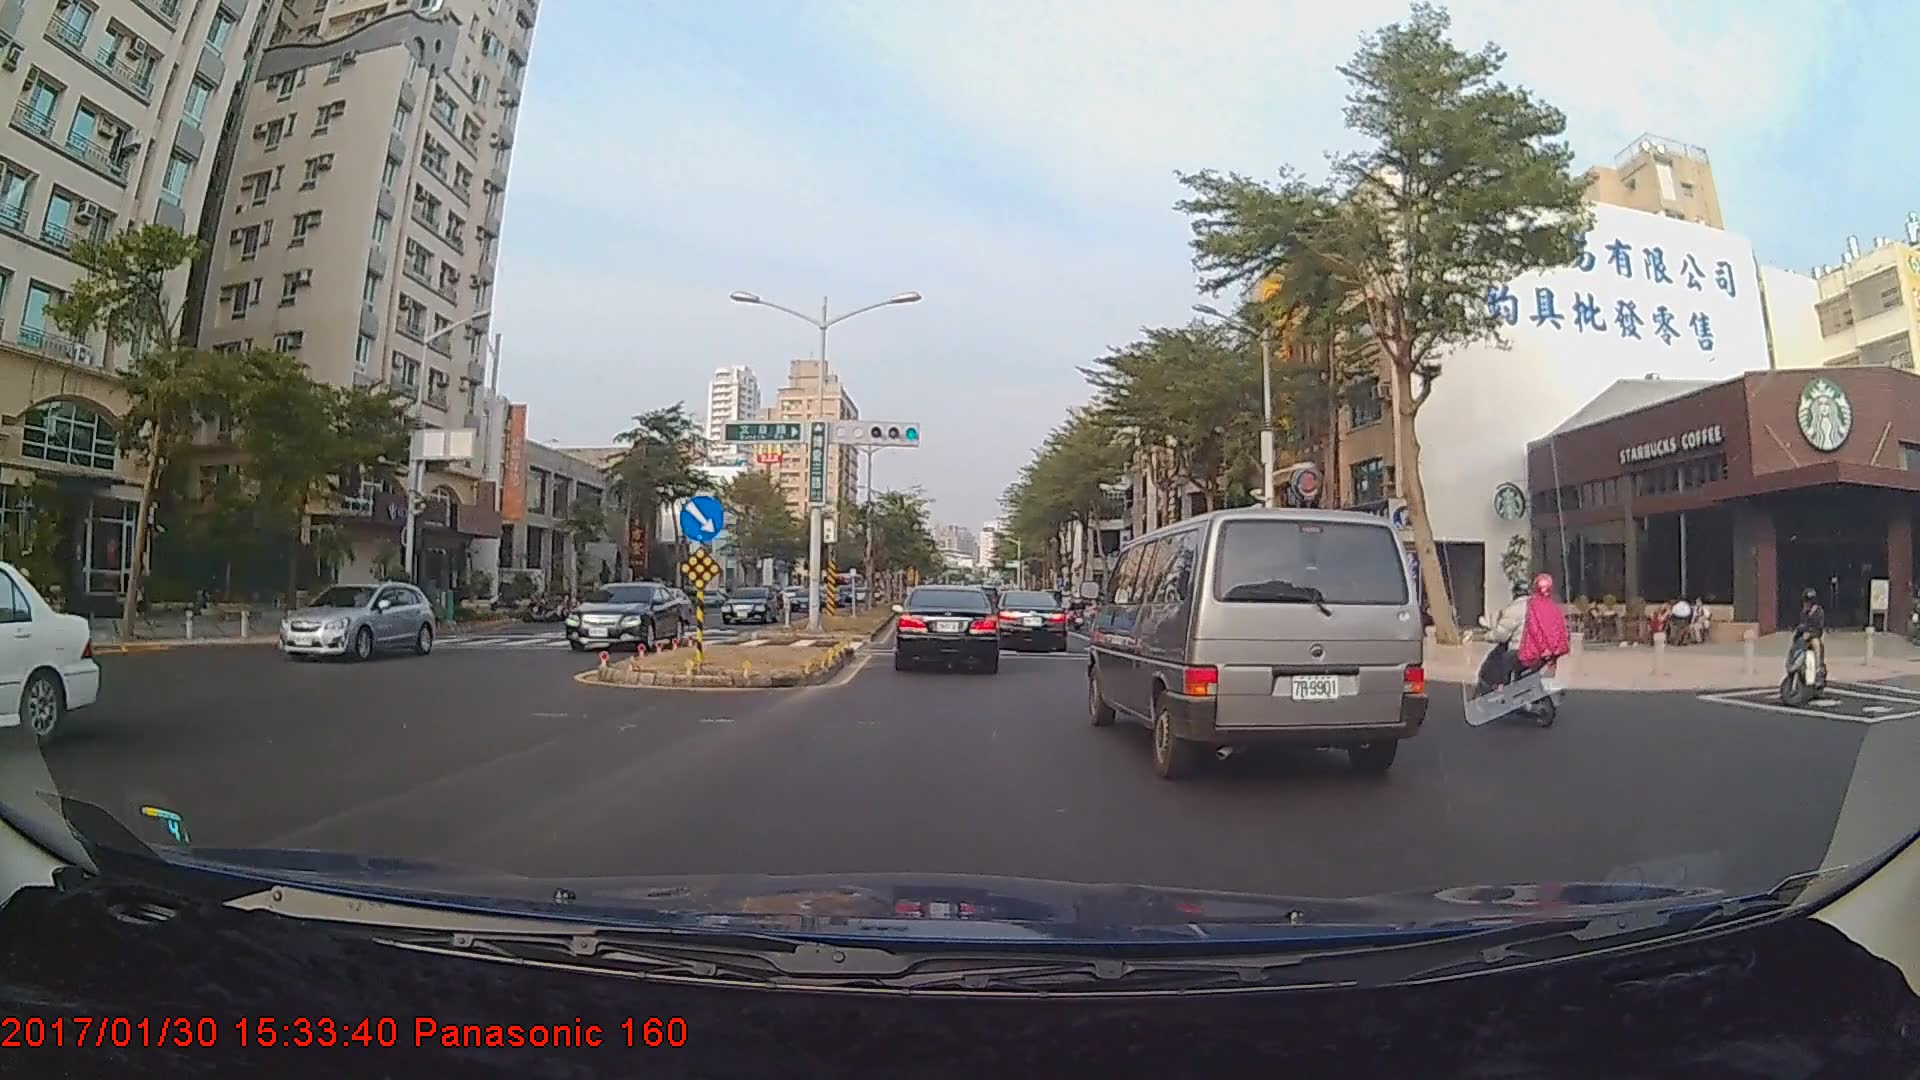rider: (1483, 561, 1593, 725), (1771, 582, 1846, 706)
vehicle: (1094, 500, 1423, 778), (0, 546, 100, 782), (277, 578, 431, 663), (892, 585, 1001, 674), (563, 580, 685, 650), (996, 589, 1068, 652), (718, 583, 778, 623)
